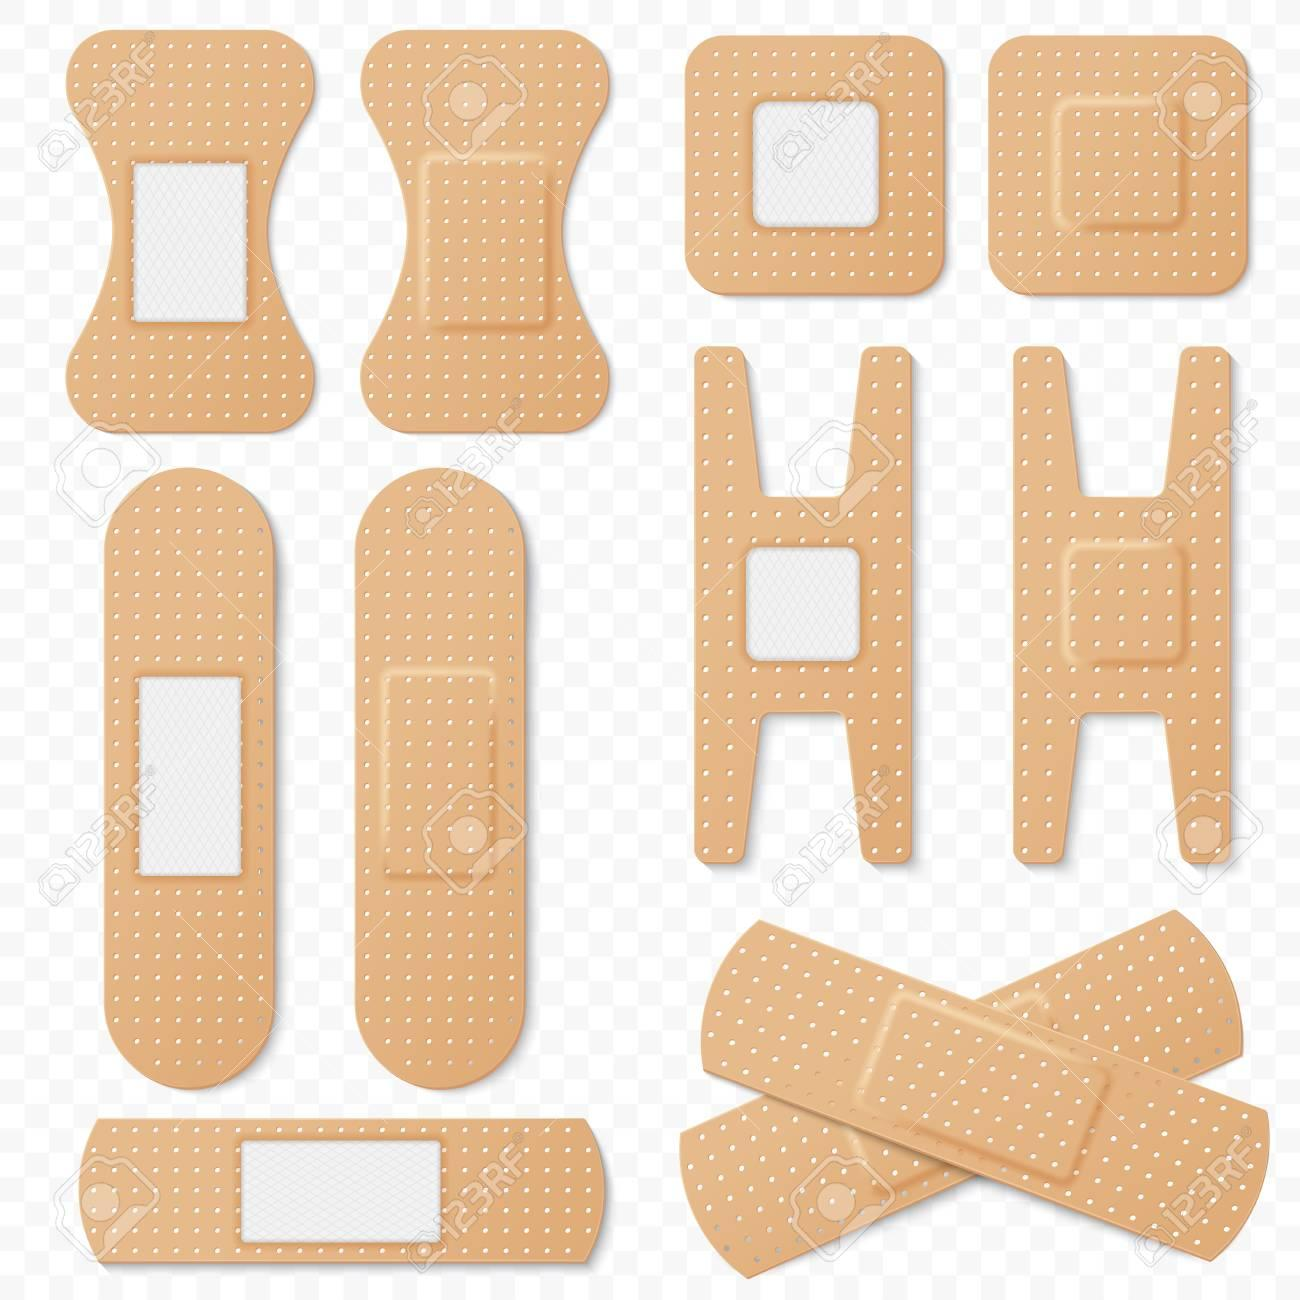bandage: (679, 908, 1269, 1275), (1013, 345, 1237, 870), (695, 343, 917, 868), (106, 468, 277, 1088), (358, 465, 527, 1090), (65, 29, 324, 436), (358, 29, 607, 430), (75, 1115, 607, 1270), (986, 33, 1248, 300), (683, 33, 943, 296)
